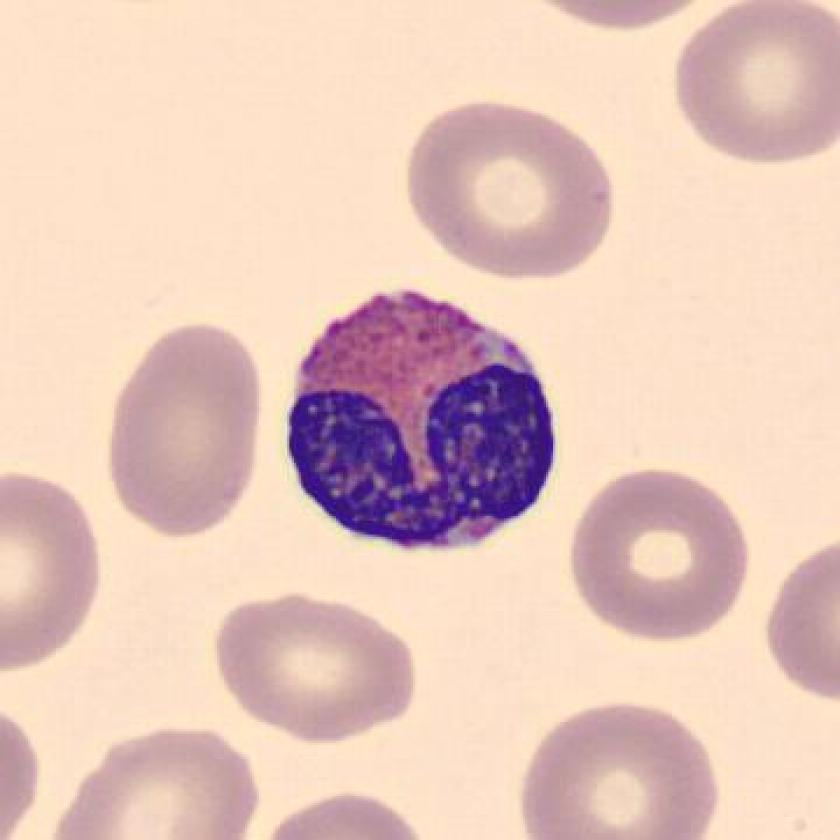eosinophil: (276, 284, 559, 564)
